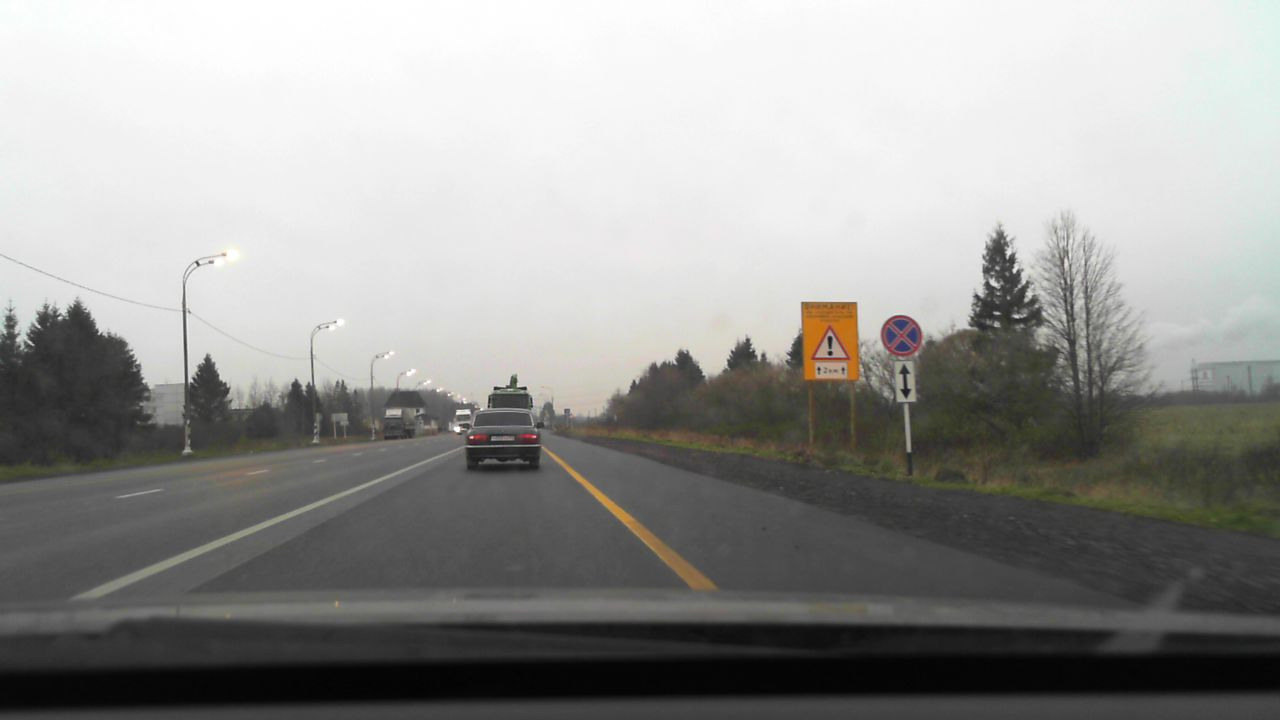No Parking: (880, 314, 922, 356)
